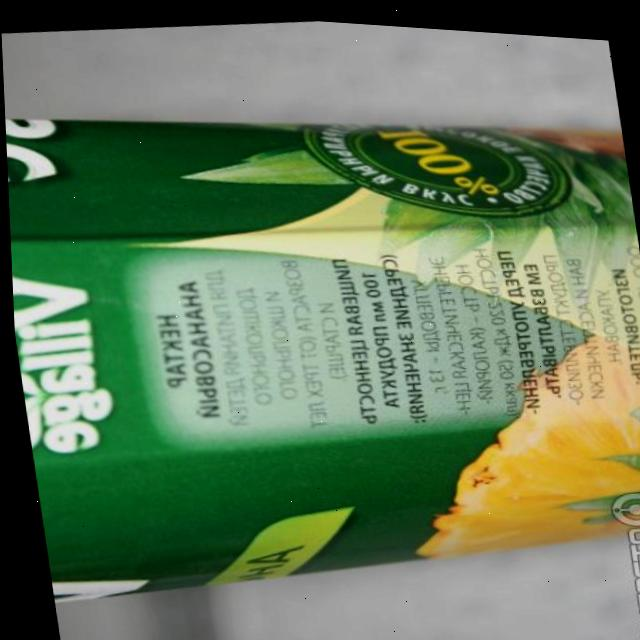Juice Global Village pineapple: (2, 55, 619, 627)
